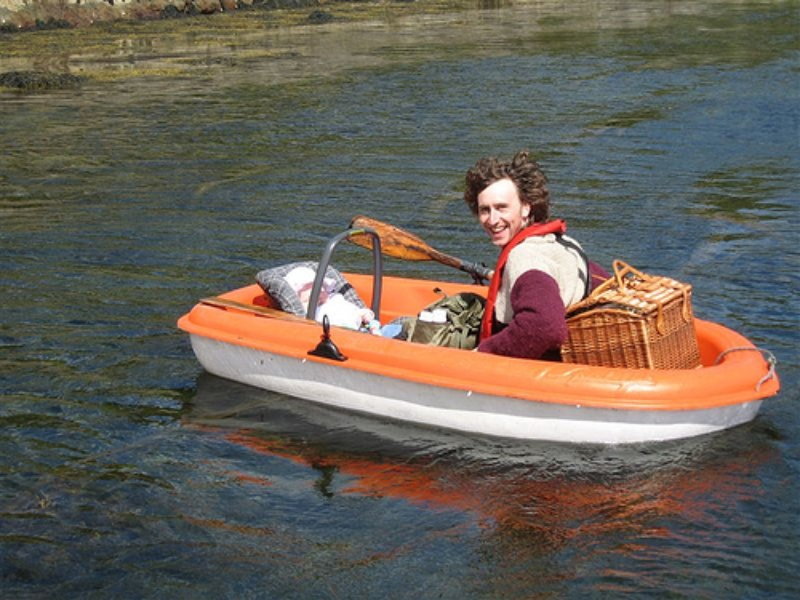person: (461, 147, 612, 358)
